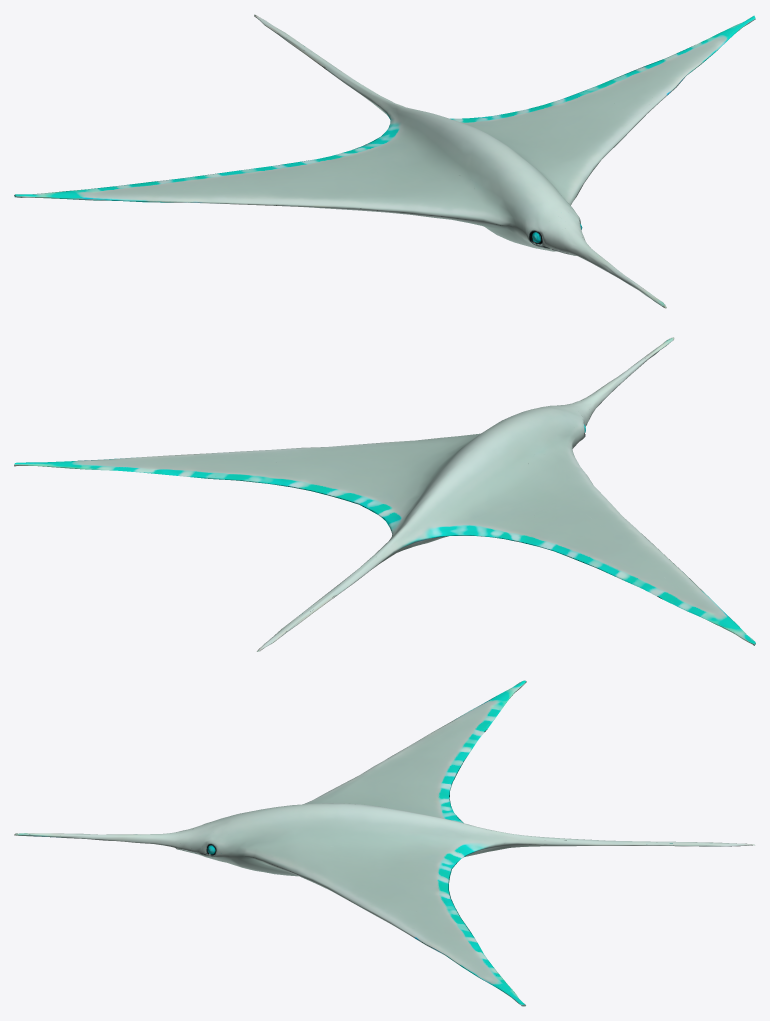
Rendered from cefiro_raw.glb.
3 views of the same model, one above another, from view 1: azimuth 30°, elevation 25°; view 2: azimuth 150°, elevation 25°; view 3: azimuth 270°, elevation 25° (orthographic). The views are drawn at different scales.
Visible parts, largest first — view 1: geometry_0; view 2: geometry_0; view 3: geometry_0.
Boxes of the visible parts, x1=… form: geometry_0: x1=14, y1=14, x2=755, y2=308; geometry_0: x1=14, y1=337, x2=755, y2=651; geometry_0: x1=14, y1=680, x2=754, y2=1006.
Size of the model in its own units: 1 by 0.1008 by 0.9717.
1 material, 1 textured.
